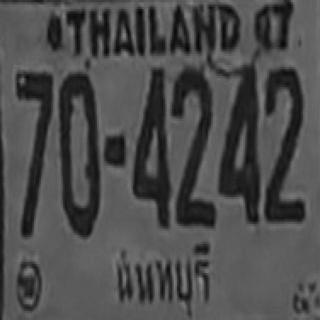N02: (171, 75, 212, 207), (170, 68, 211, 198), (263, 93, 304, 220), (264, 66, 303, 198)
N04: (218, 64, 259, 223), (131, 65, 168, 226), (131, 65, 168, 204)
N07: (15, 70, 52, 174)
P37: (111, 235, 214, 320)
